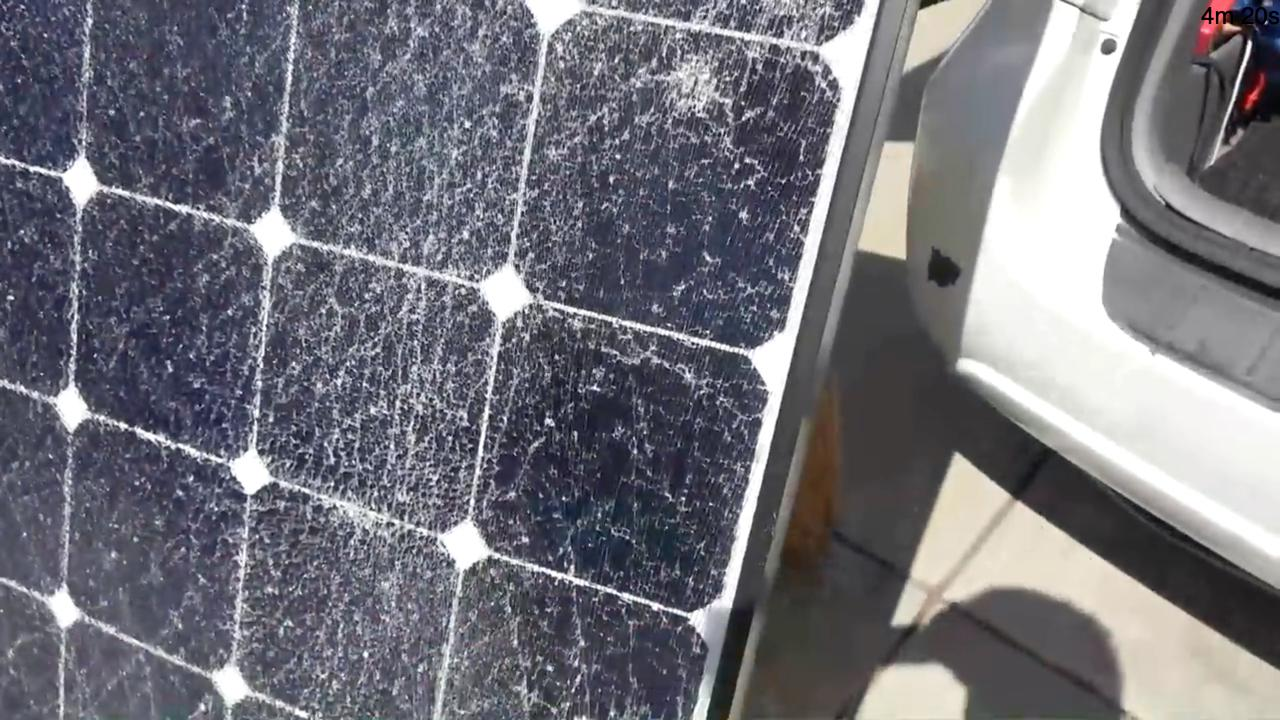Crack: (245, 6, 535, 704), (567, 7, 821, 163)
